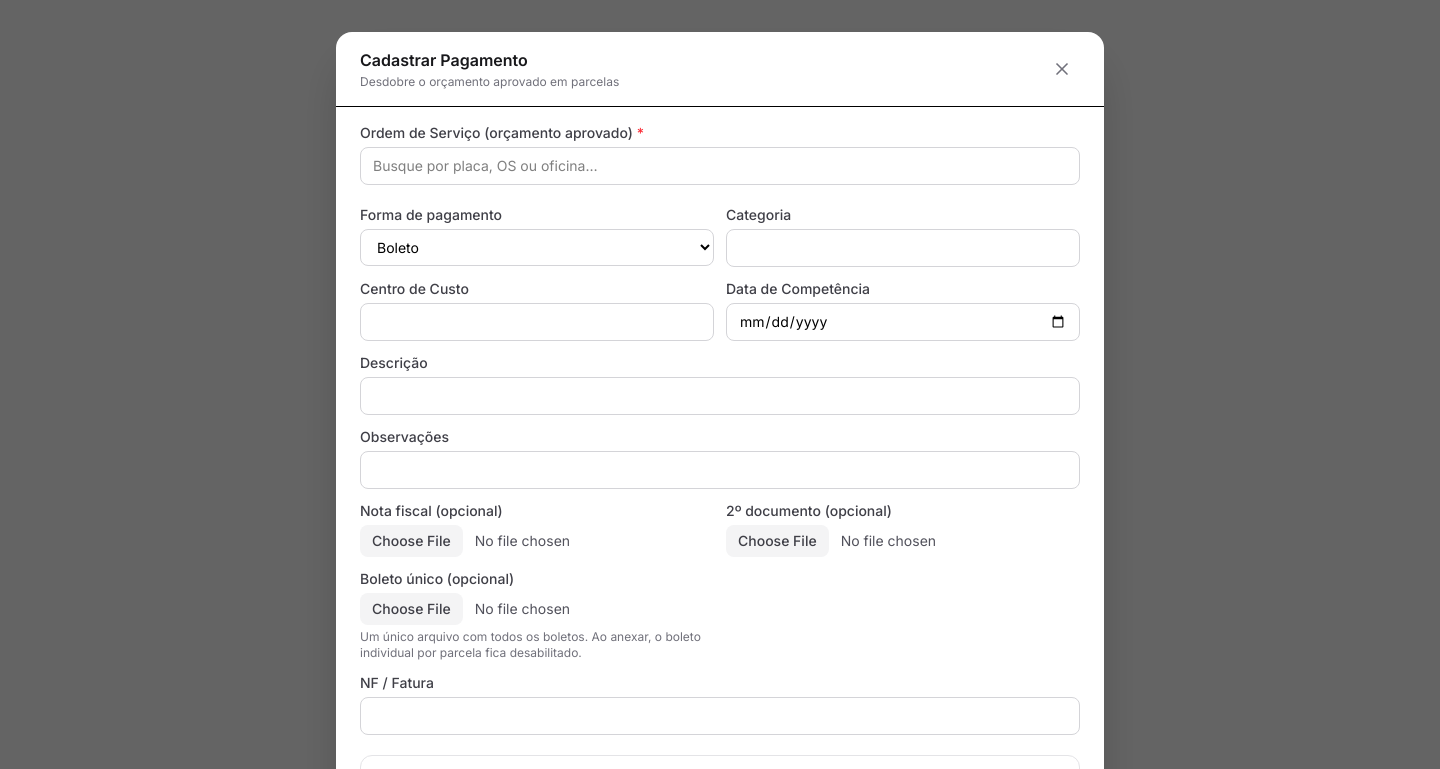
Test case: PaymentInstallmentFormModal › selecionar os-1 preenche Centro de Custo com a unidade do veículo
Step 1. Click the dropdown with placeholder "Busque por placa, OS ou oficina…" → point(720, 166), box [360,147,1080,185]
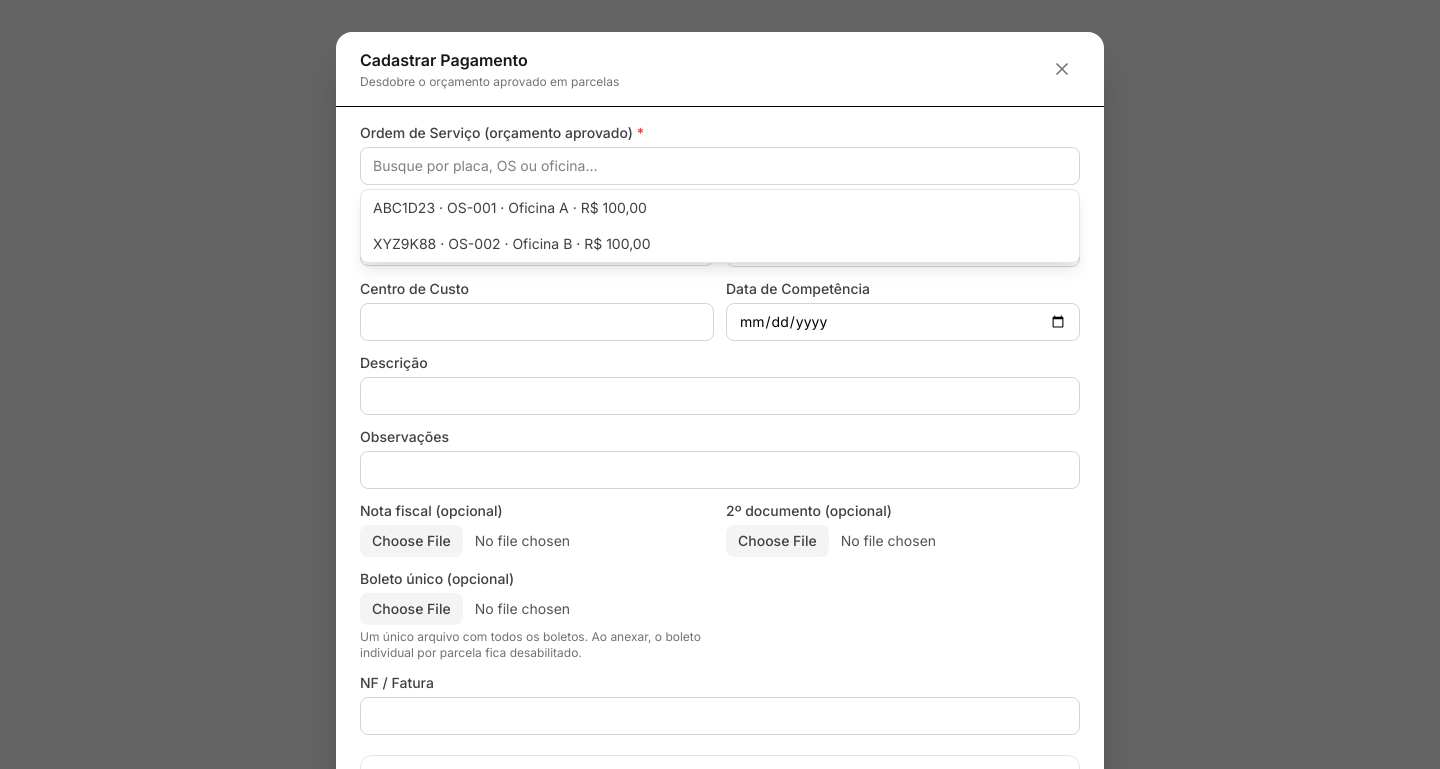
Step 2. Click the option "ABC1D23 · OS-001 · Oficina A · R$ 100,00" → point(510, 208), box [373,199,647,216]
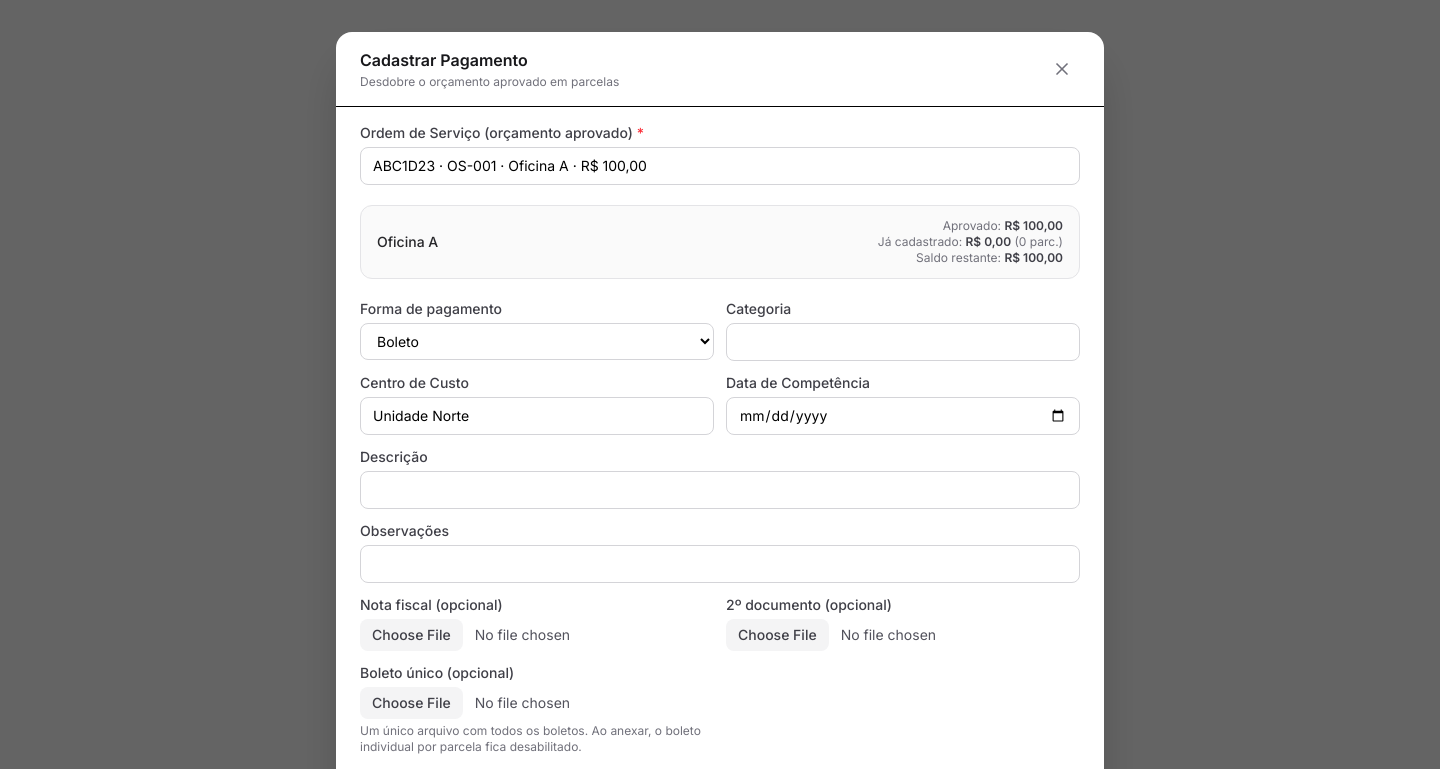
Now the field named "financeiro-centro-custo" below "Centro de Custo" holds "Unidade Norte", box [360,397,714,435]
